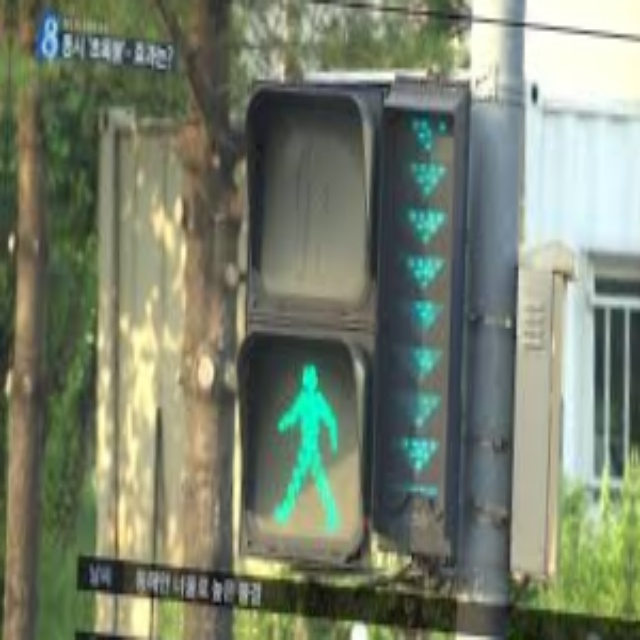green_light: (263, 356, 355, 532), (393, 292, 442, 341), (390, 432, 440, 477), (389, 342, 446, 380), (390, 391, 441, 432), (400, 159, 451, 199), (400, 205, 447, 248), (400, 249, 446, 286)
